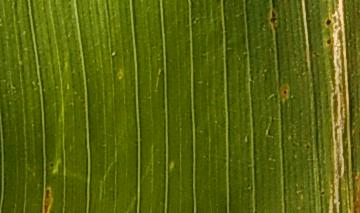tarspot: (267, 8, 281, 29), (322, 16, 335, 27), (303, 139, 313, 153), (323, 35, 334, 47), (280, 87, 290, 97)
